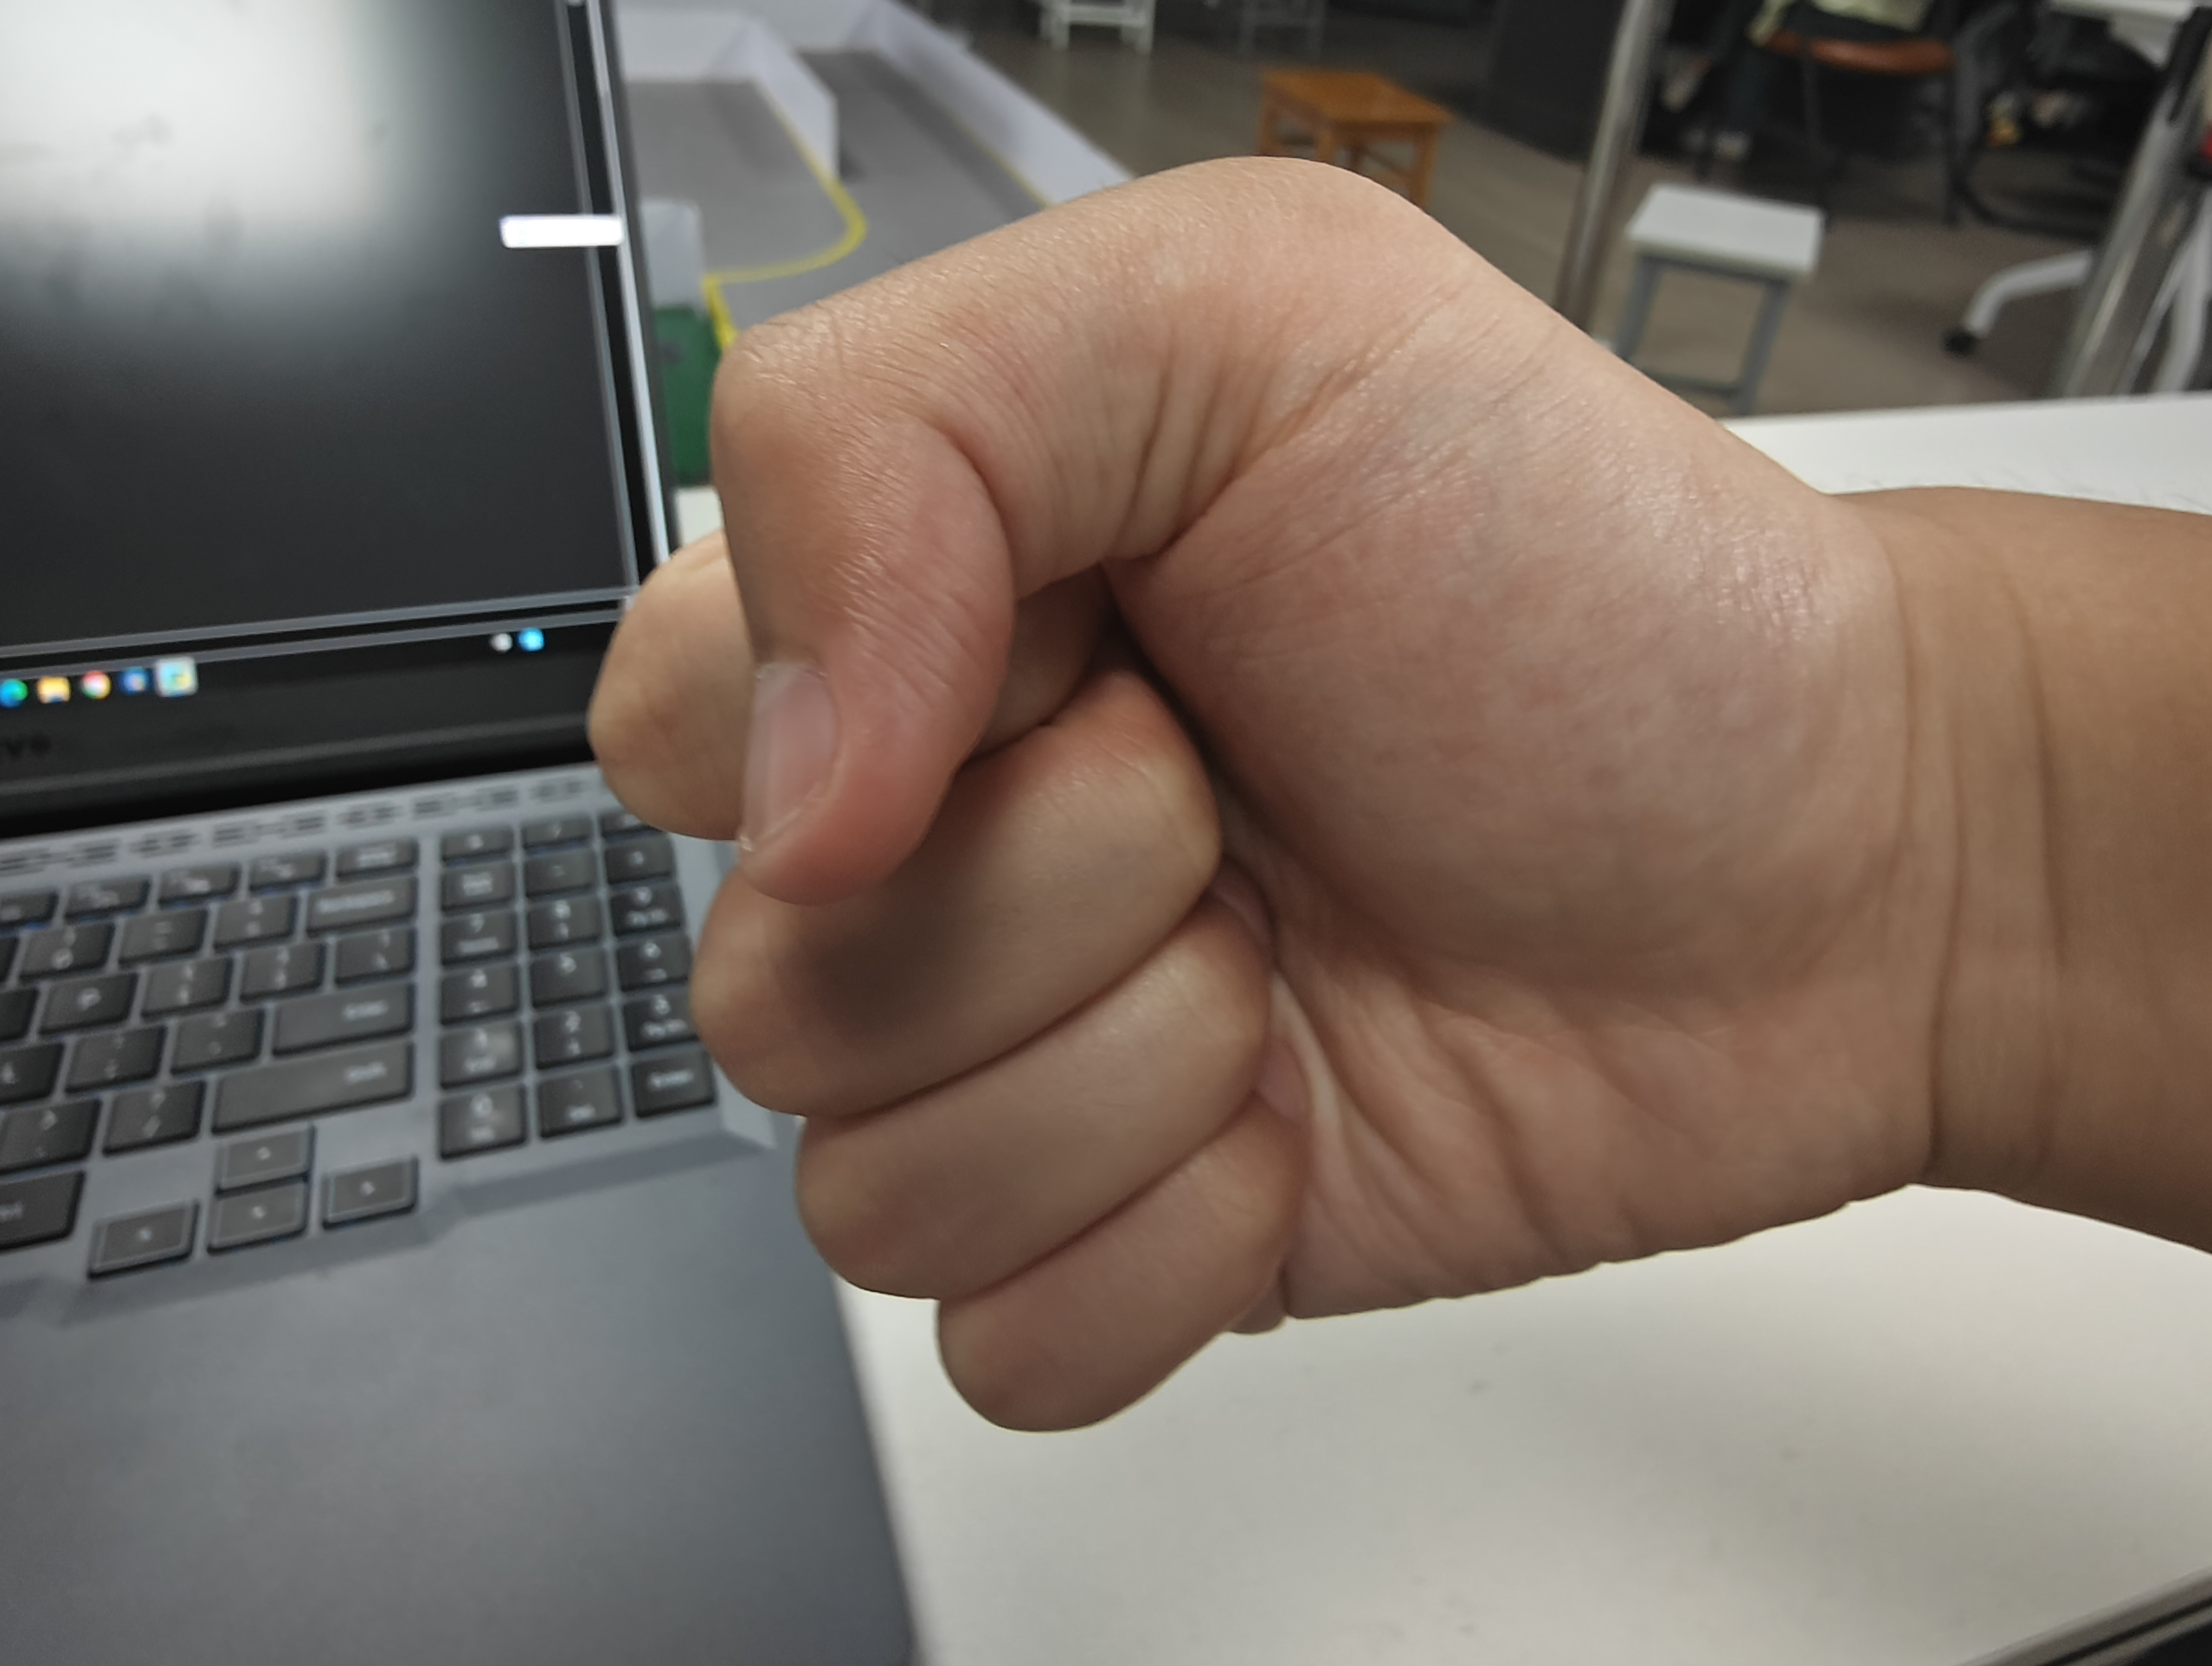mb: (581, 144, 1869, 1432)
